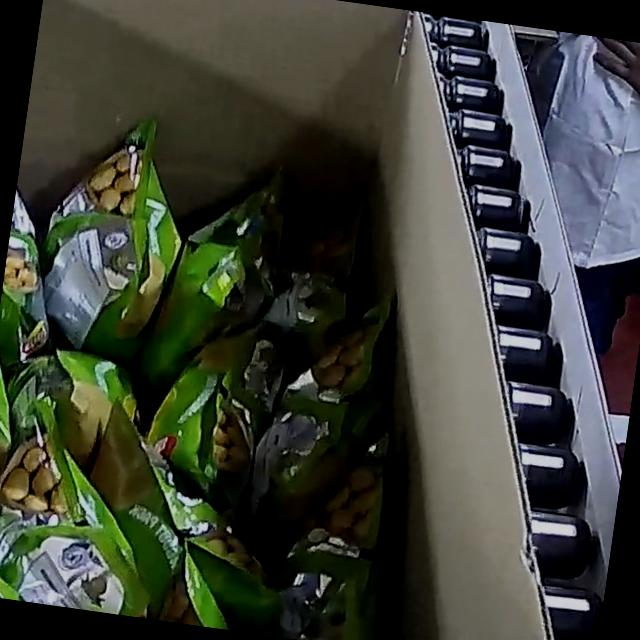yogurt: (0, 99, 440, 640)
